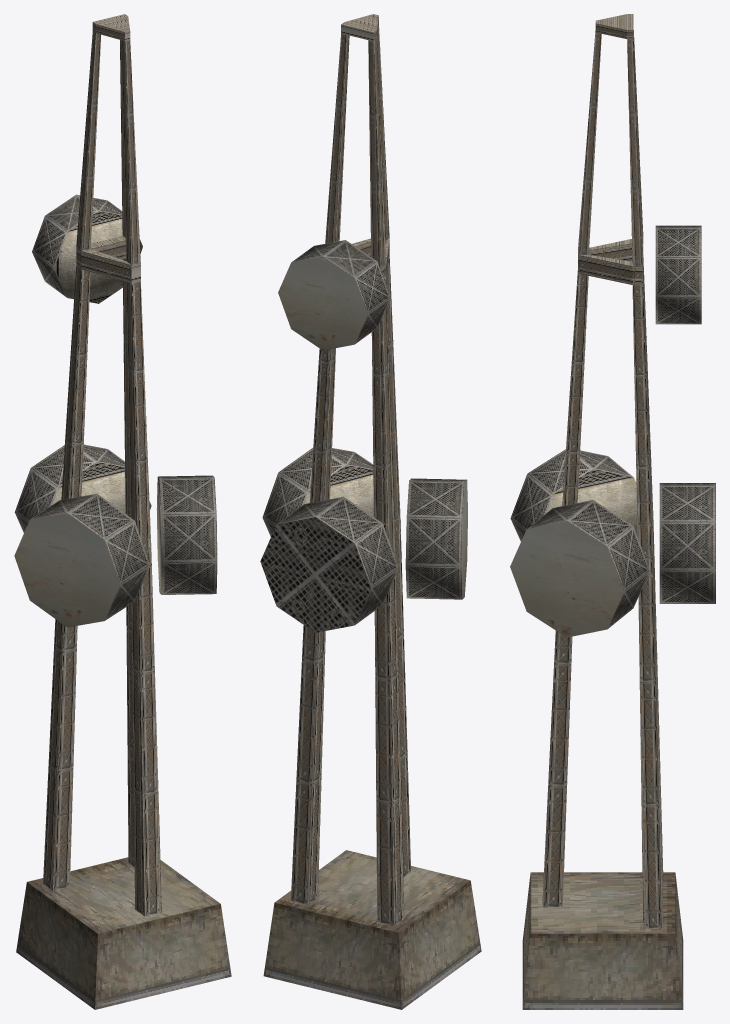
Rendered from Mission8_VillageRadioShackExt_B.glb.
3 views of the same model, side by side, from view 1: azimuth 30°, elevation 25°; view 2: azimuth 150°, elevation 25°; view 3: azimuth 270°, elevation 25° (orthographic).
Visible parts, largest first — view 1: MISSION8_VILLAGERADIOSHACKEXT_B; view 2: MISSION8_VILLAGERADIOSHACKEXT_B; view 3: MISSION8_VILLAGERADIOSHACKEXT_B.
Boxes of the visible parts, <box> form: MISSION8_VILLAGERADIOSHACKEXT_B: <box>14,14,231,1009</box>; MISSION8_VILLAGERADIOSHACKEXT_B: <box>260,14,481,1009</box>; MISSION8_VILLAGERADIOSHACKEXT_B: <box>510,14,715,1009</box>.
Bounding box in the file's own units: 2.89 × 13.08 × 2.56.
Materials: 5 (5 with a texture image).
